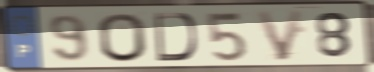5: (204, 10, 251, 62)
8: (313, 10, 355, 60)
9: (47, 13, 92, 64)
D: (152, 11, 200, 63)
O: (96, 11, 149, 64)
V: (253, 8, 307, 63)
